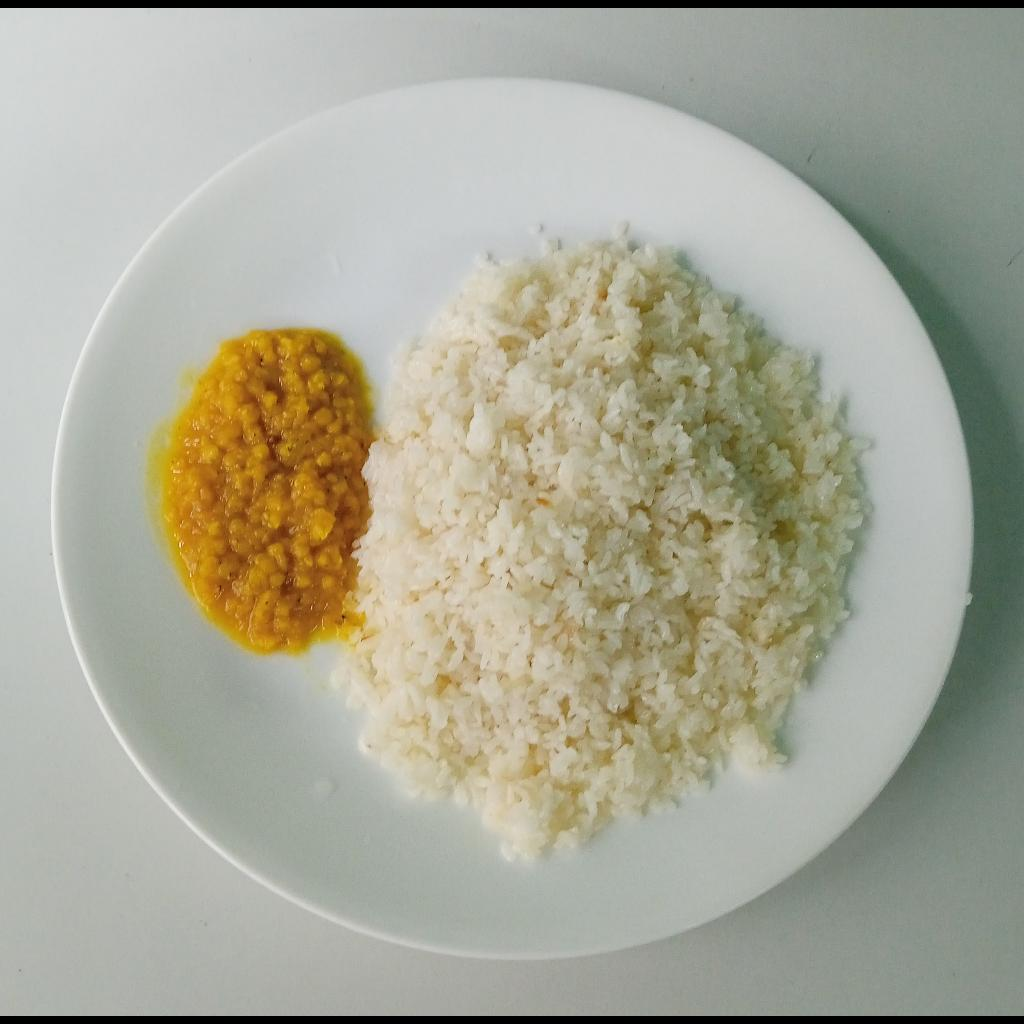daal: (168, 327, 373, 650)
rice: (329, 219, 876, 862)
